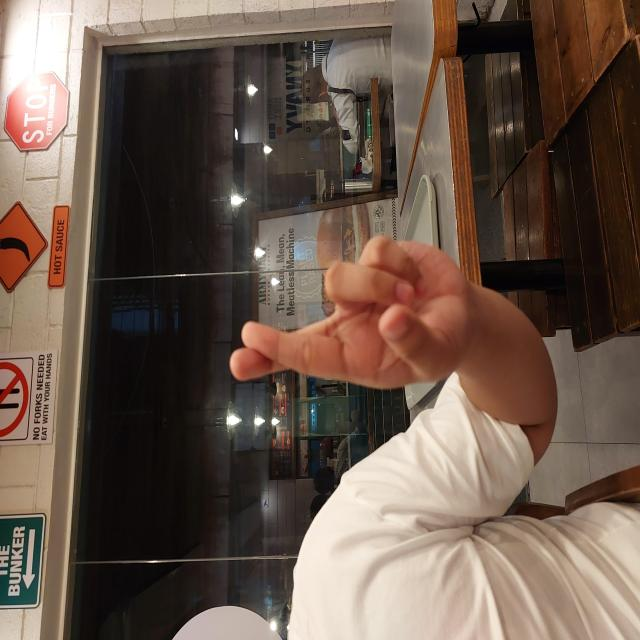R: (250, 228, 406, 475)
